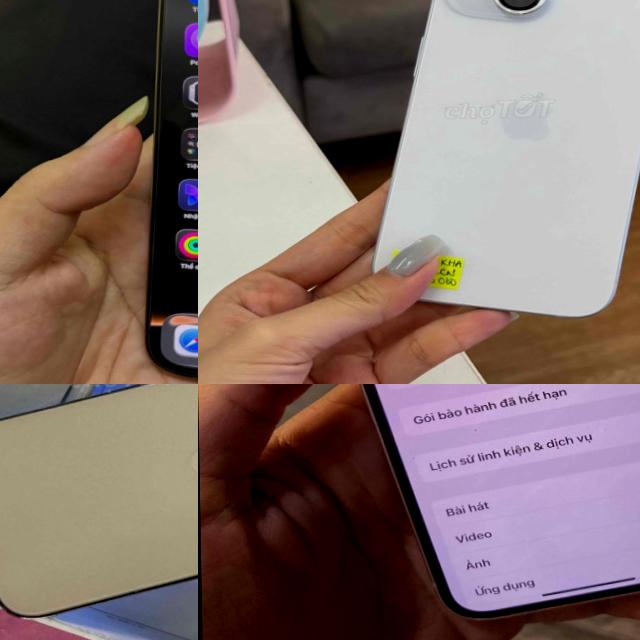gen_12_13: (285, 384, 640, 627)
gen_14: (0, 384, 198, 617)
gen_15: (372, 0, 640, 340)
gen_16: (124, 0, 198, 384)
screen_defect: (598, 519, 640, 590)
